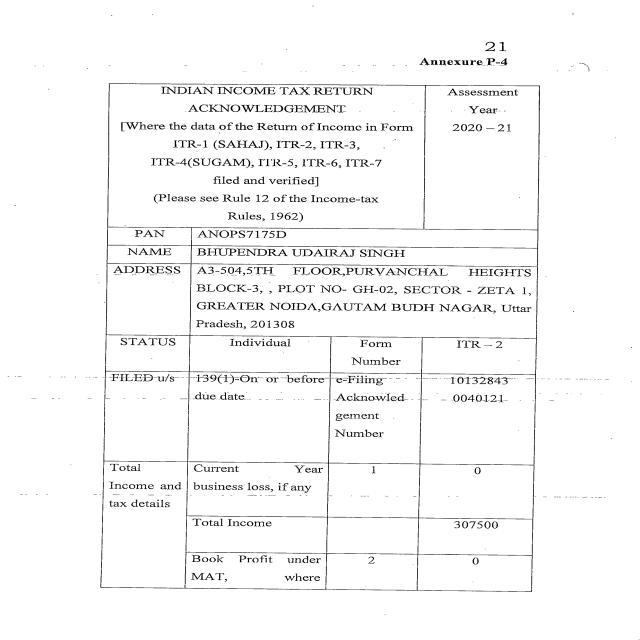page-number: (375, 0, 640, 56)
